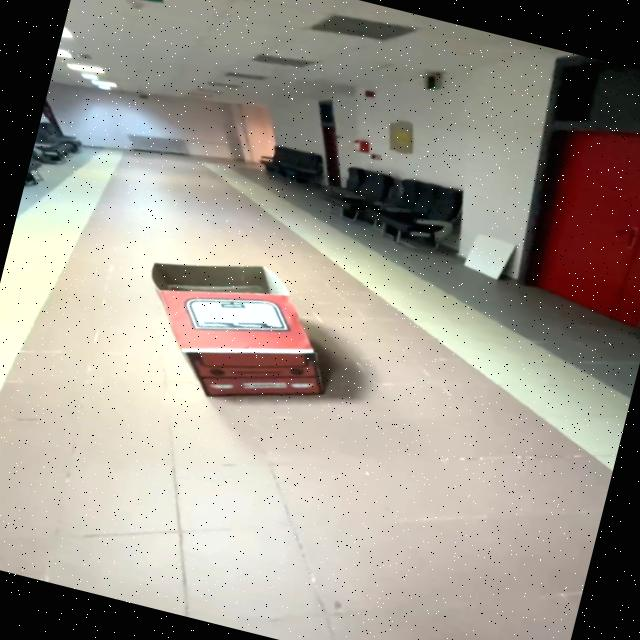red_car: (92, 222, 396, 449)
